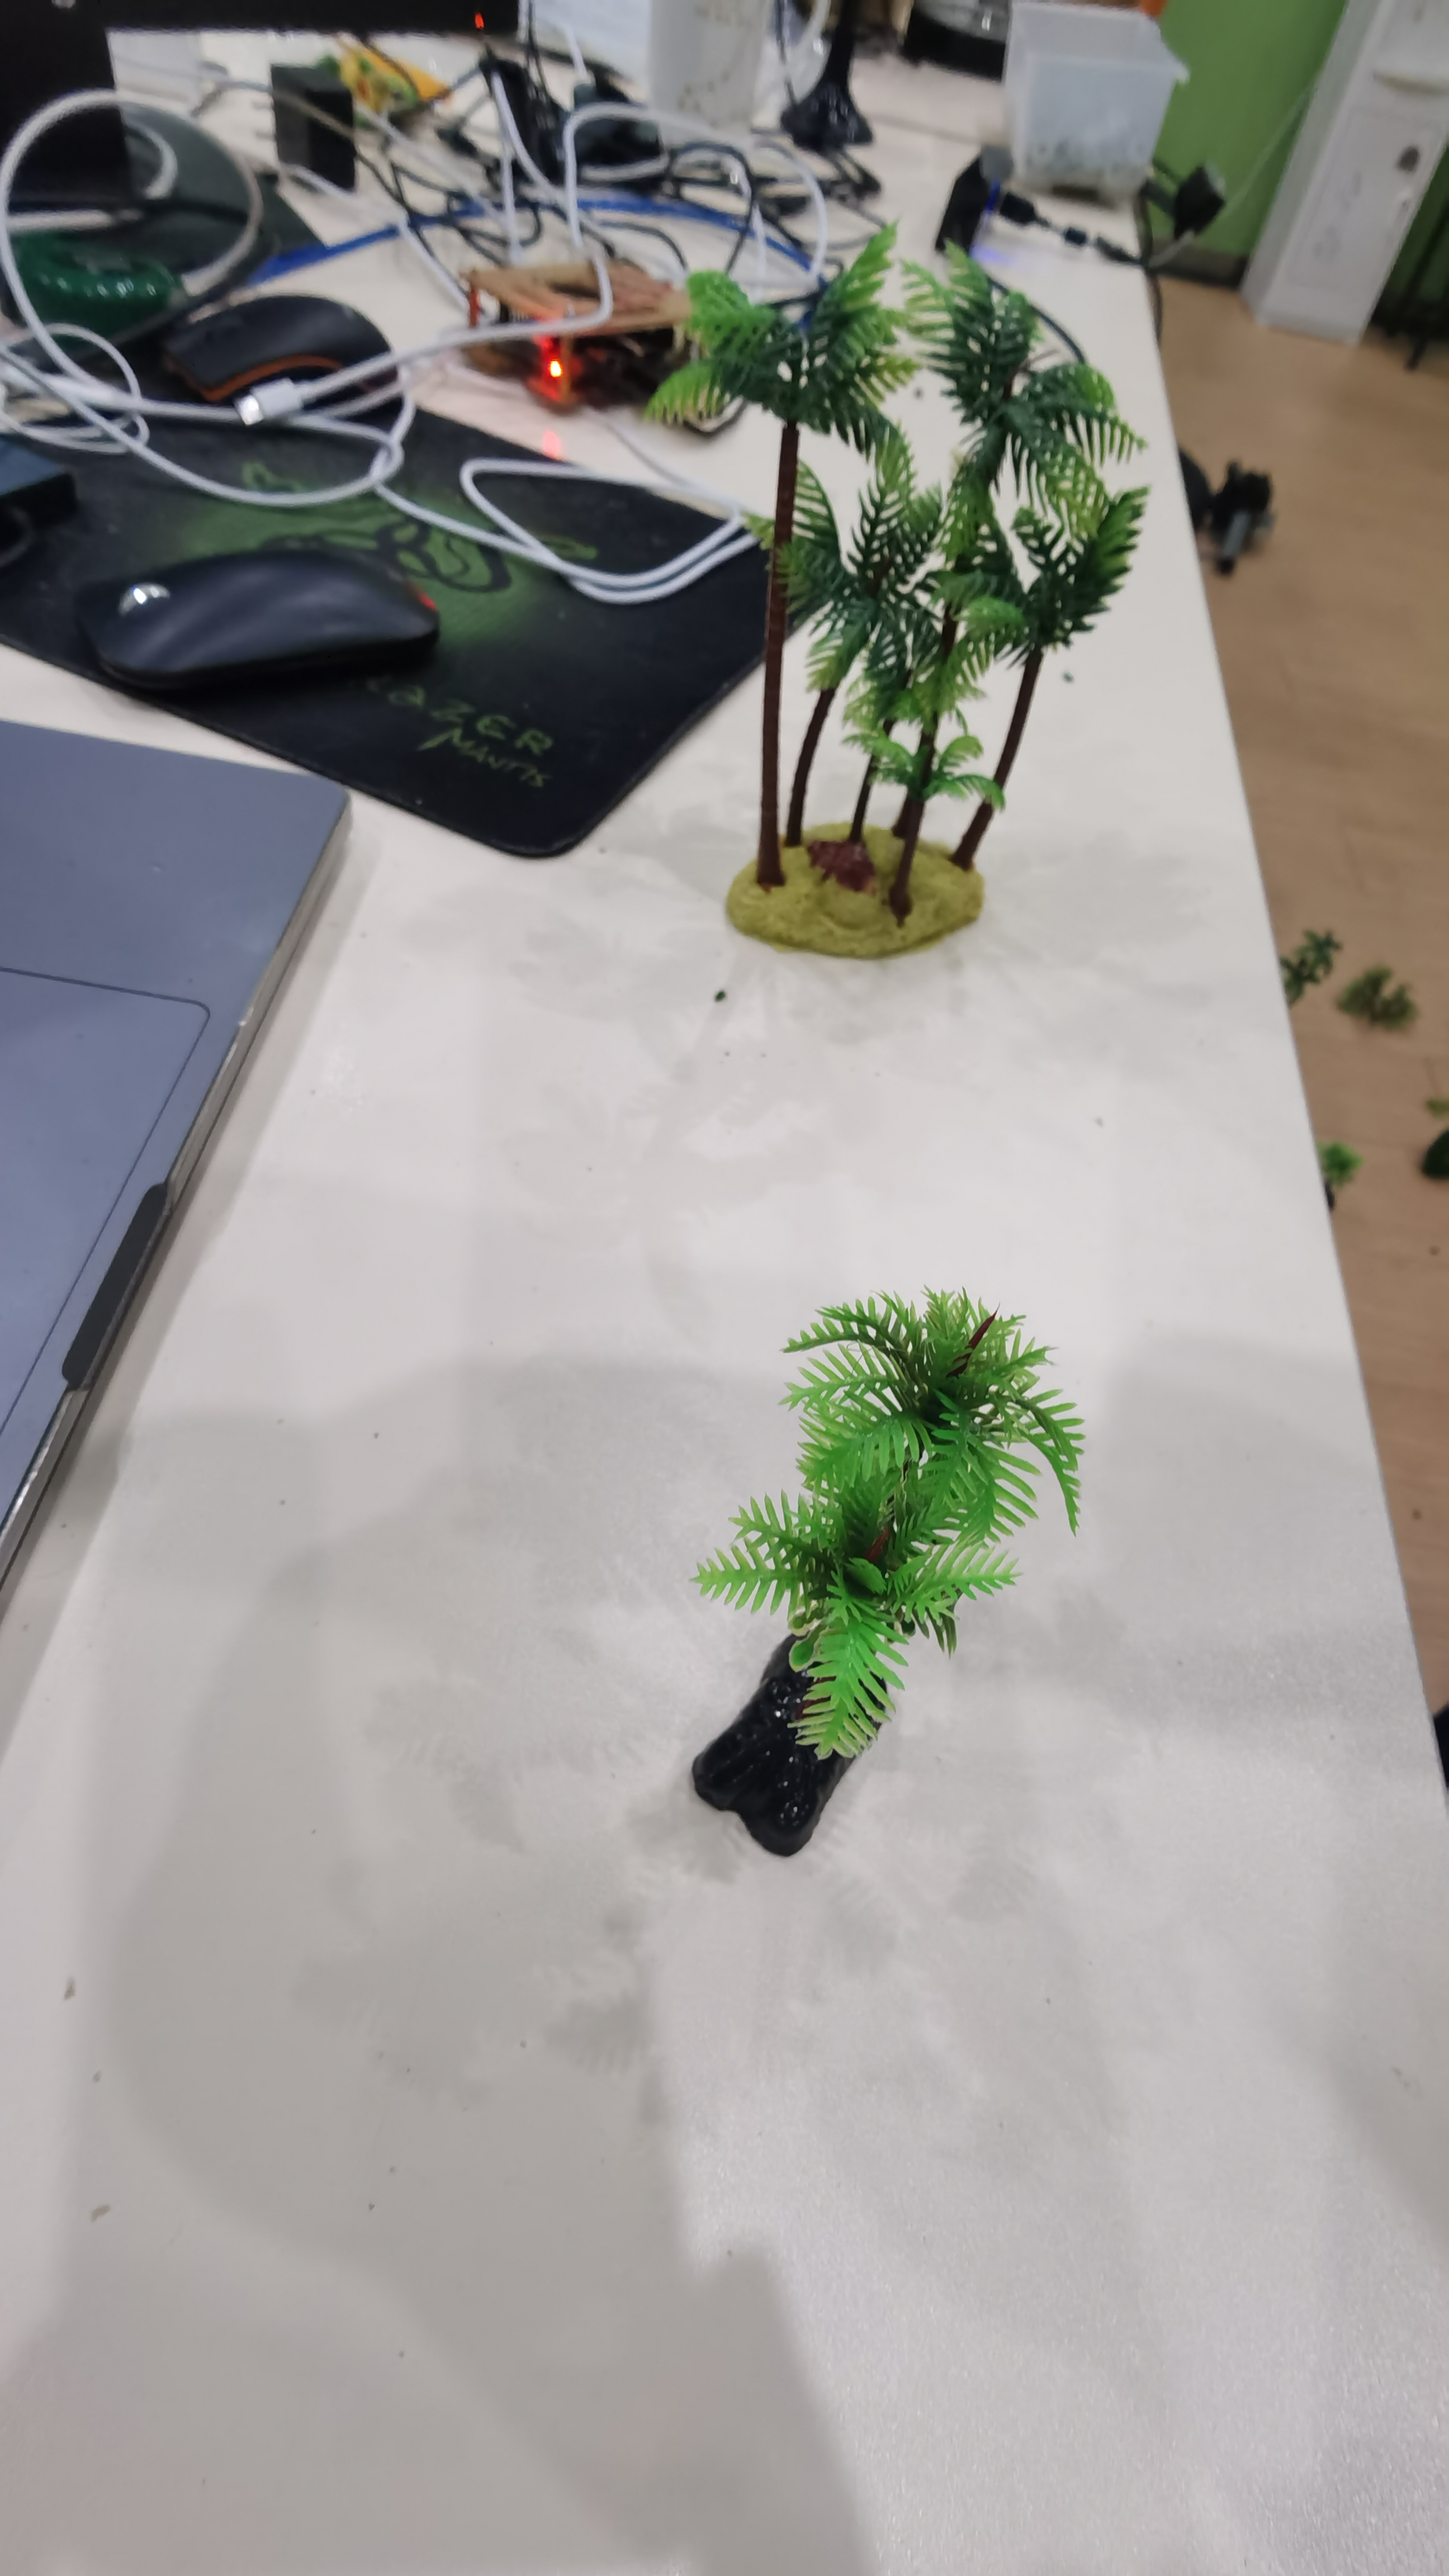corn: (630, 219, 1164, 966), (683, 1274, 1106, 1858)
